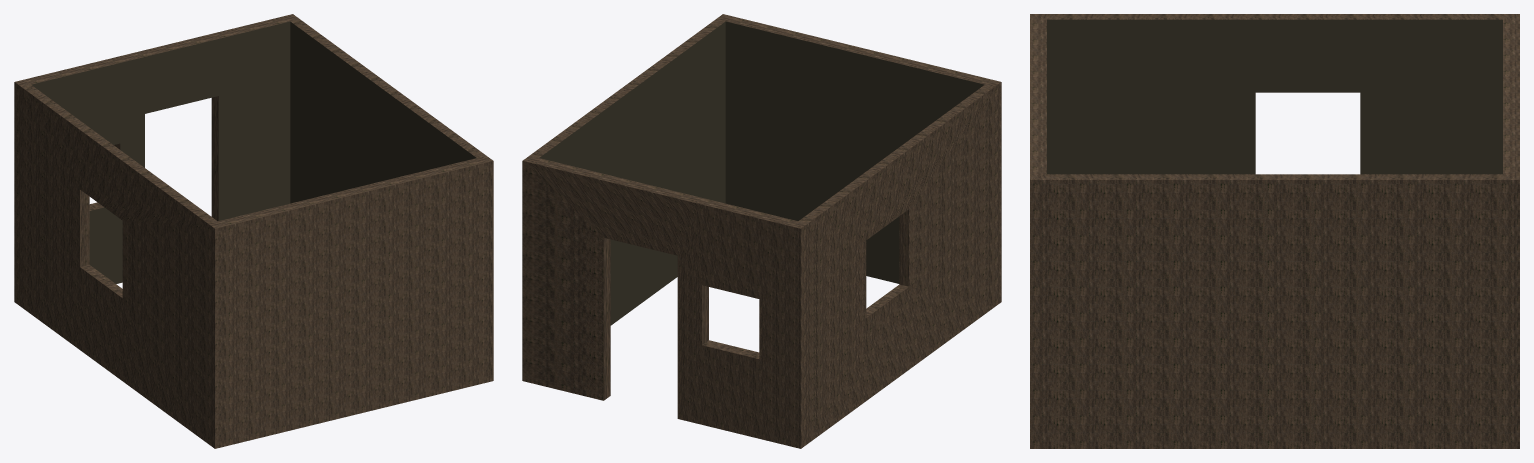
Rendered from walls.glb.
3 views of the same model, side by side, from view 1: azimuth 30°, elevation 25°; view 2: azimuth 150°, elevation 25°; view 3: azimuth 270°, elevation 25° (orthographic). The views are drawn at different scales.
Parts seen in each view (by area): view 1: walls; view 2: walls; view 3: walls.
Boxes of the visible parts, <box> form: walls: <box>14,14,493,448</box>; walls: <box>522,14,1001,448</box>; walls: <box>1030,14,1519,448</box>.
Size of the model in its own units: 2.82 by 2.13 by 3.52.
Materials: 1 (1 with a texture image).
